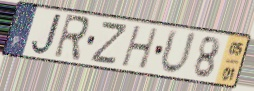8: (192, 35, 223, 80)
H: (119, 25, 161, 72)
J: (29, 12, 64, 56)
R: (51, 13, 91, 64)
U: (158, 27, 199, 78)
Z: (88, 21, 130, 67)
